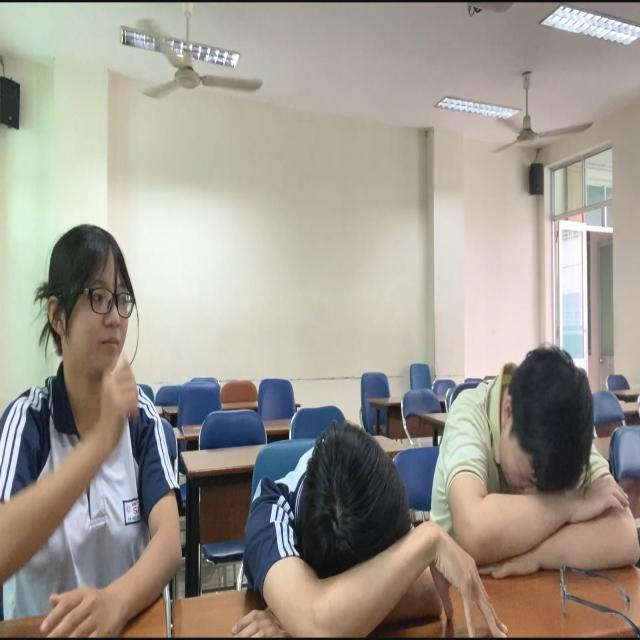sleep: (234, 419, 514, 638), (423, 325, 640, 583)
